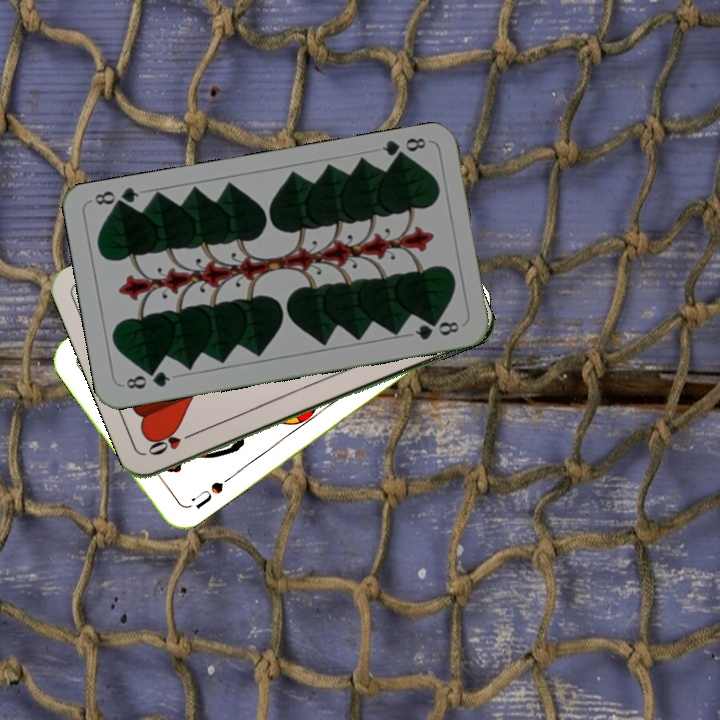G8: (378, 133, 428, 164), (122, 366, 173, 392)
HO: (144, 427, 200, 459)
SU: (187, 477, 226, 512)
